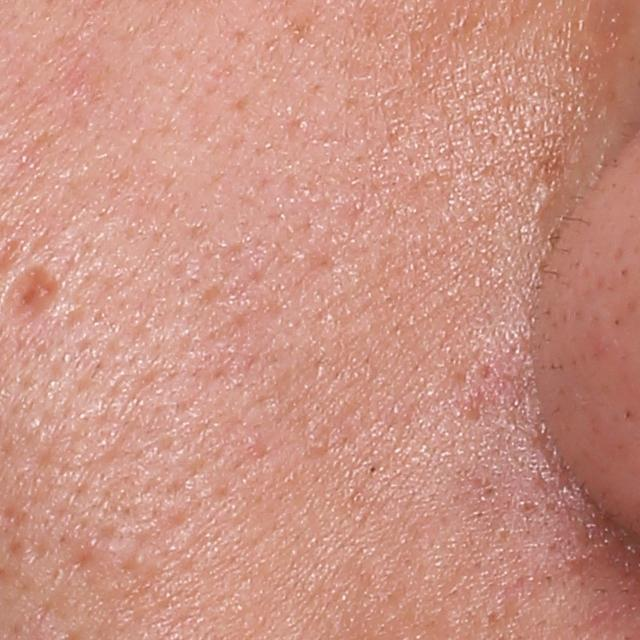comedo: (126, 542, 159, 571)
